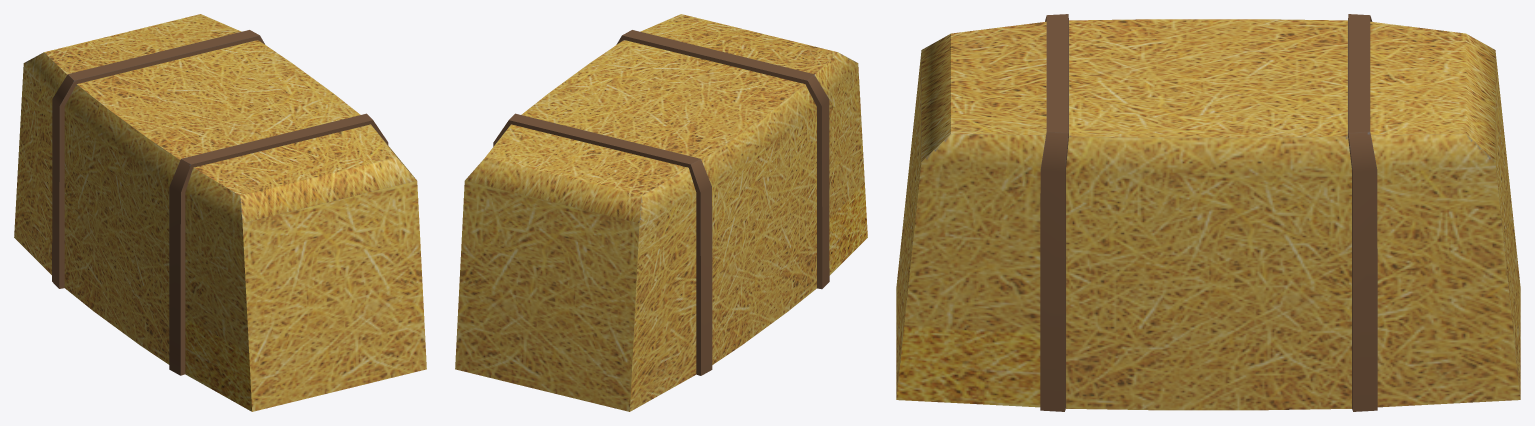
The model's file is Haystack_Mesh.fbx.
The picture shows the model from 3 angles, left to right: view 1: azimuth 30°, elevation 25°; view 2: azimuth 150°, elevation 25°; view 3: azimuth 270°, elevation 25°; orthographic projection. The views are drawn at different scales.
Visible parts, largest first — view 1: Grainstack:grainstack; view 2: Grainstack:grainstack; view 3: Grainstack:grainstack.
Part boxes in pixels (x1,y1,x2,y2): Grainstack:grainstack: (14, 14, 426, 411); Grainstack:grainstack: (455, 14, 867, 411); Grainstack:grainstack: (896, 14, 1520, 411).
Size of the model in its own units: 19.69 by 18.31 by 38.28.
